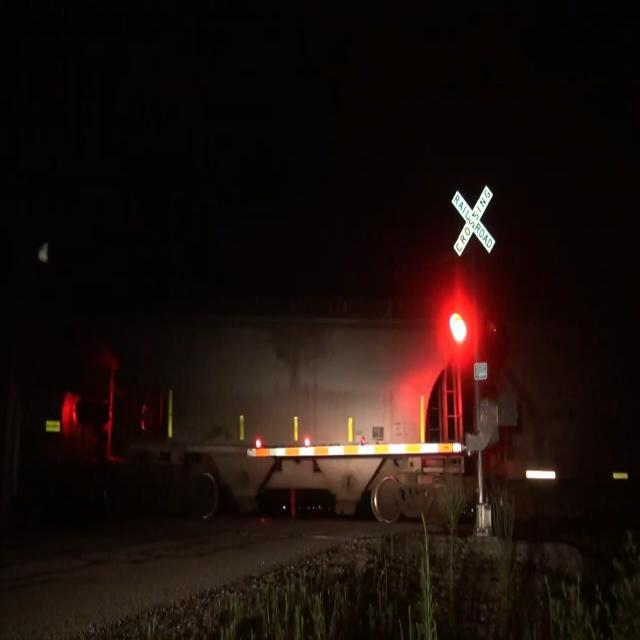hopper: (53, 283, 474, 541)
